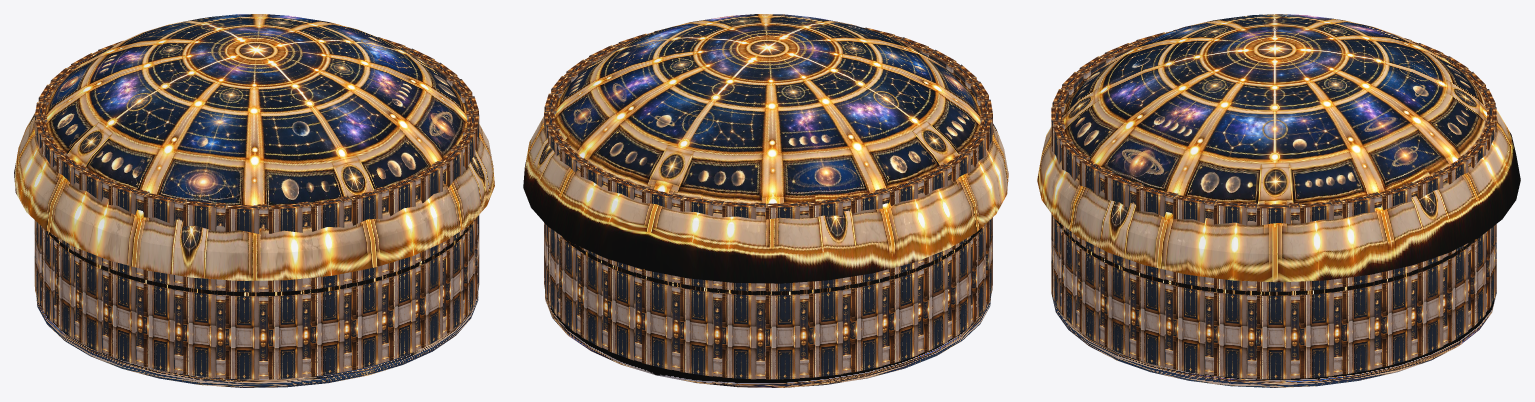
Rendered from Astro_Library.glb.
3 views of the same model, side by side, from view 1: azimuth 30°, elevation 25°; view 2: azimuth 150°, elevation 25°; view 3: azimuth 270°, elevation 25° (orthographic).
Parts seen in each view (by area): view 1: Sphere, Shelf_Eclipse, Shelf_Eclipse.001, Cube, Cylinder.003, Cube.002, Cylinder.004; view 2: Sphere, Shelf_Eclipse, Shelf_Eclipse.001, Cube, Cylinder.003, Cube.002, Cylinder.004; view 3: Sphere, Shelf_Eclipse, Shelf_Eclipse.001, Cube, Cylinder.003, Cube.002, Cylinder.004.
Boxes of the visible parts, x1=… form: Sphere: x1=14, y1=14, x2=494, y2=280; Shelf_Eclipse: x1=34, y1=215, x2=479, y2=379; Shelf_Eclipse.001: x1=34, y1=37, x2=479, y2=292; Cube: x1=41, y1=219, x2=475, y2=378; Cylinder.003: x1=36, y1=292, x2=478, y2=387; Cube.002: x1=36, y1=46, x2=477, y2=291; Cylinder.004: x1=46, y1=222, x2=472, y2=296; Sphere: x1=523, y1=14, x2=1008, y2=283; Shelf_Eclipse: x1=544, y1=217, x2=992, y2=379; Shelf_Eclipse.001: x1=544, y1=27, x2=992, y2=291; Cube: x1=547, y1=224, x2=986, y2=378; Cylinder.003: x1=545, y1=291, x2=991, y2=387; Cube.002: x1=545, y1=27, x2=991, y2=290; Cylinder.004: x1=562, y1=227, x2=982, y2=295; Sphere: x1=1037, y1=14, x2=1520, y2=282; Shelf_Eclipse: x1=1051, y1=214, x2=1496, y2=379; Shelf_Eclipse.001: x1=1051, y1=29, x2=1496, y2=291; Cube: x1=1060, y1=228, x2=1487, y2=378; Cylinder.003: x1=1051, y1=292, x2=1496, y2=387; Cube.002: x1=1053, y1=31, x2=1494, y2=290; Cylinder.004: x1=1056, y1=220, x2=1479, y2=295.
Size of the model in its own units: 20 by 11.83 by 20.
Materials: 15 (14 with a texture image).
